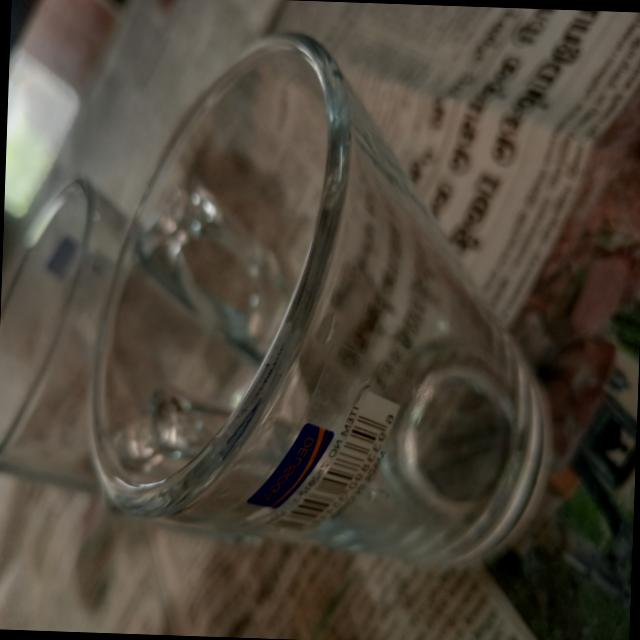glass-VX4N: (83, 29, 550, 574), (0, 167, 199, 499)
